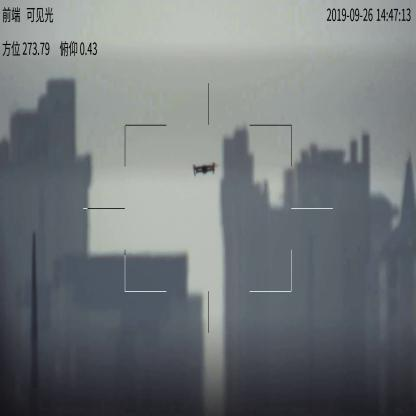uav: (190, 160, 220, 180)
